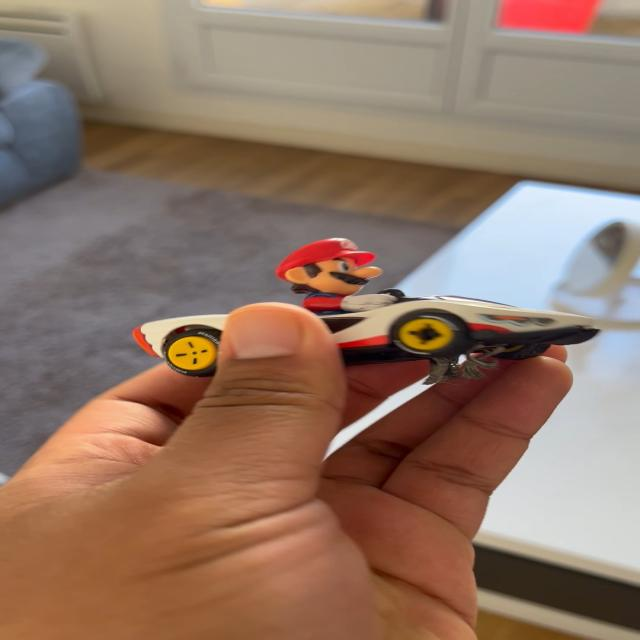mario: (112, 230, 602, 390)
